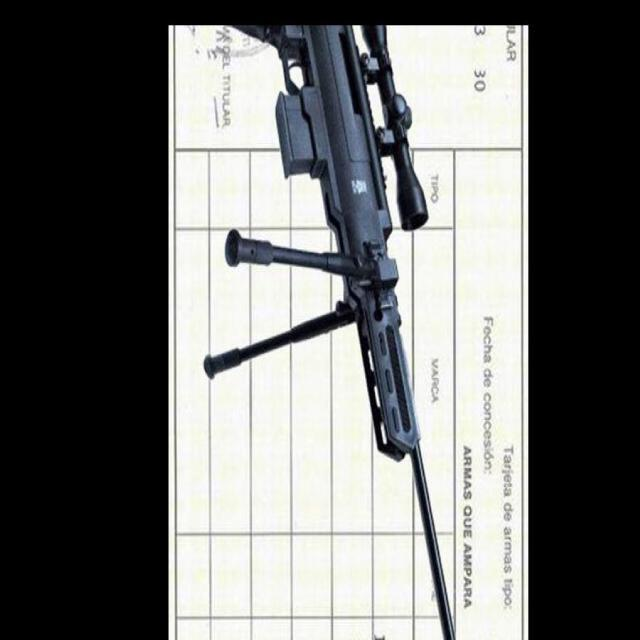weapon: (202, 26, 454, 640)
